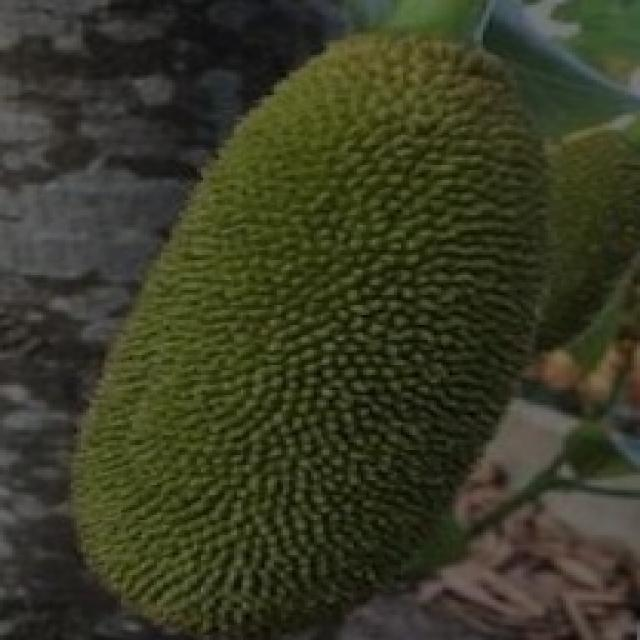Fruit: (231, 2, 640, 368)
